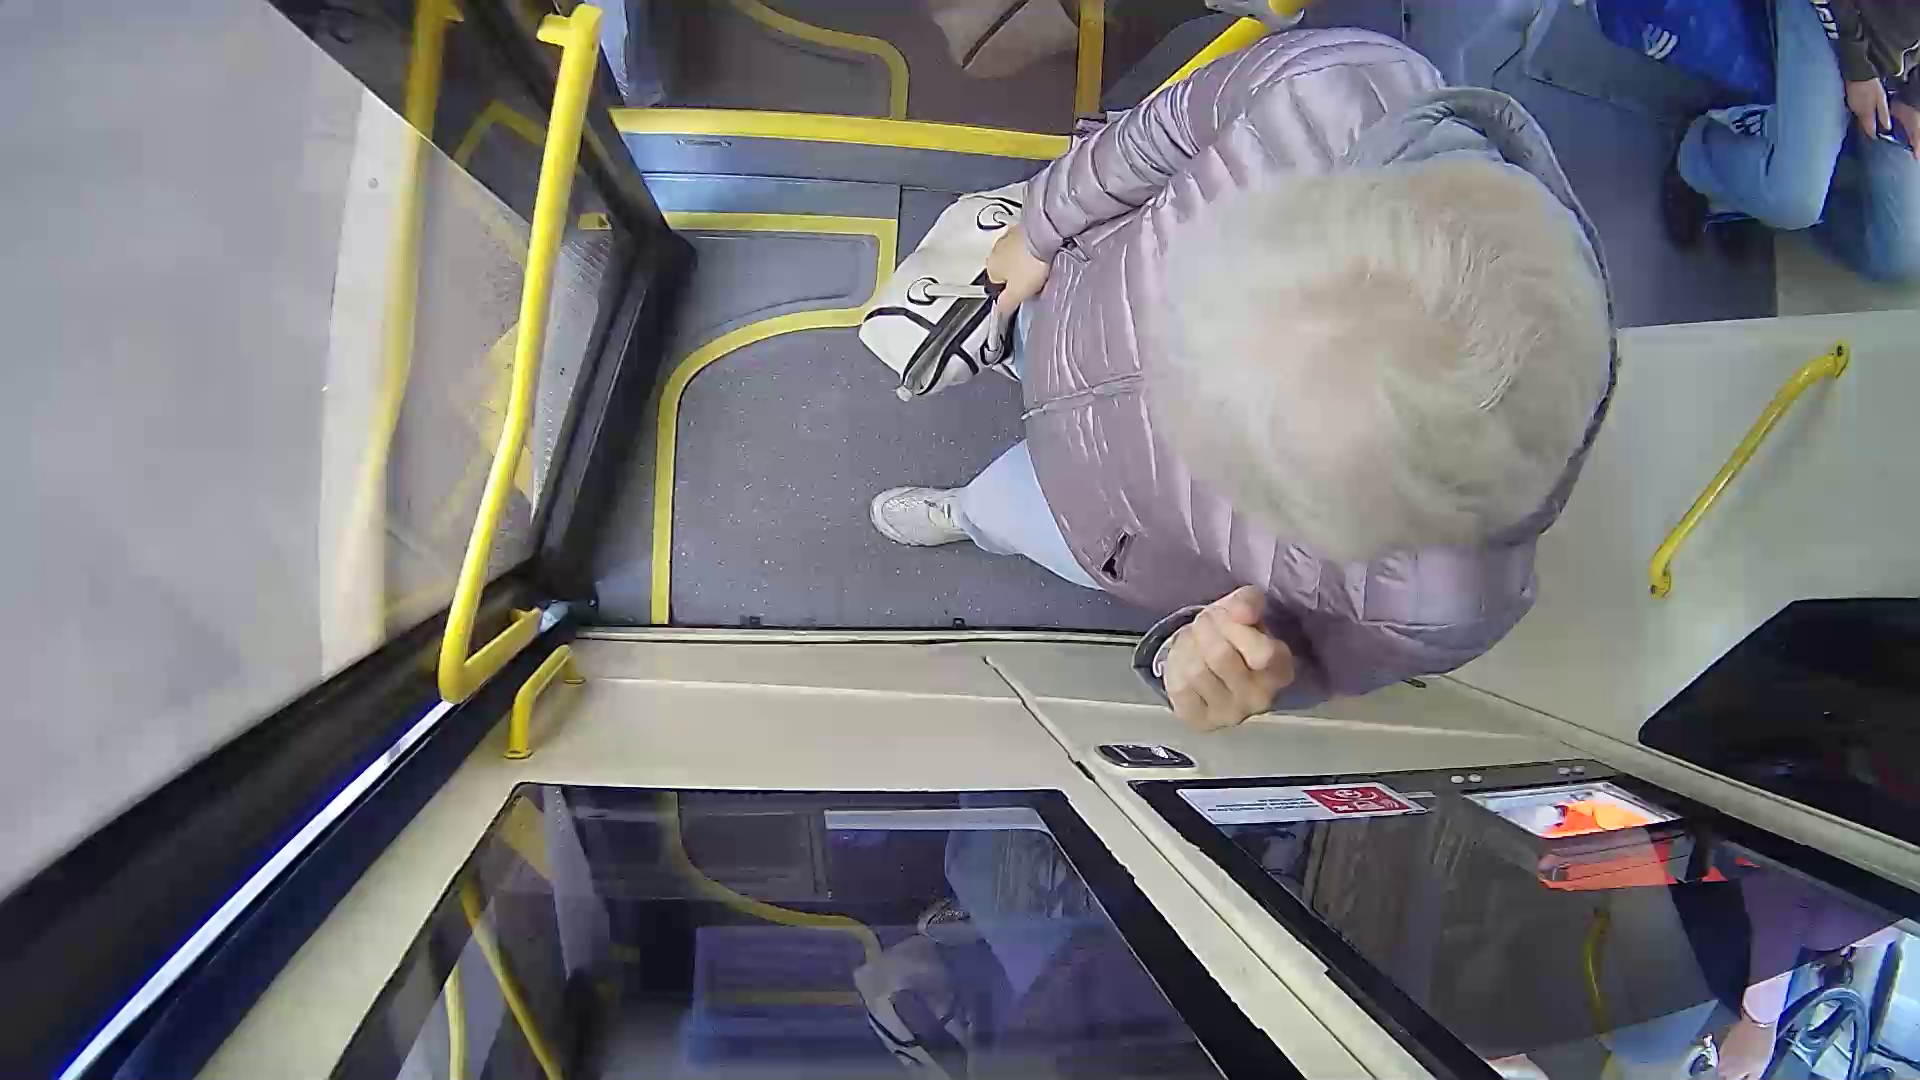person: (886, 54, 1679, 754)
